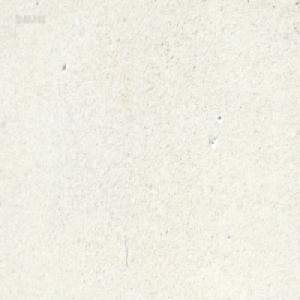Wrench: (128, 0, 134, 4)
